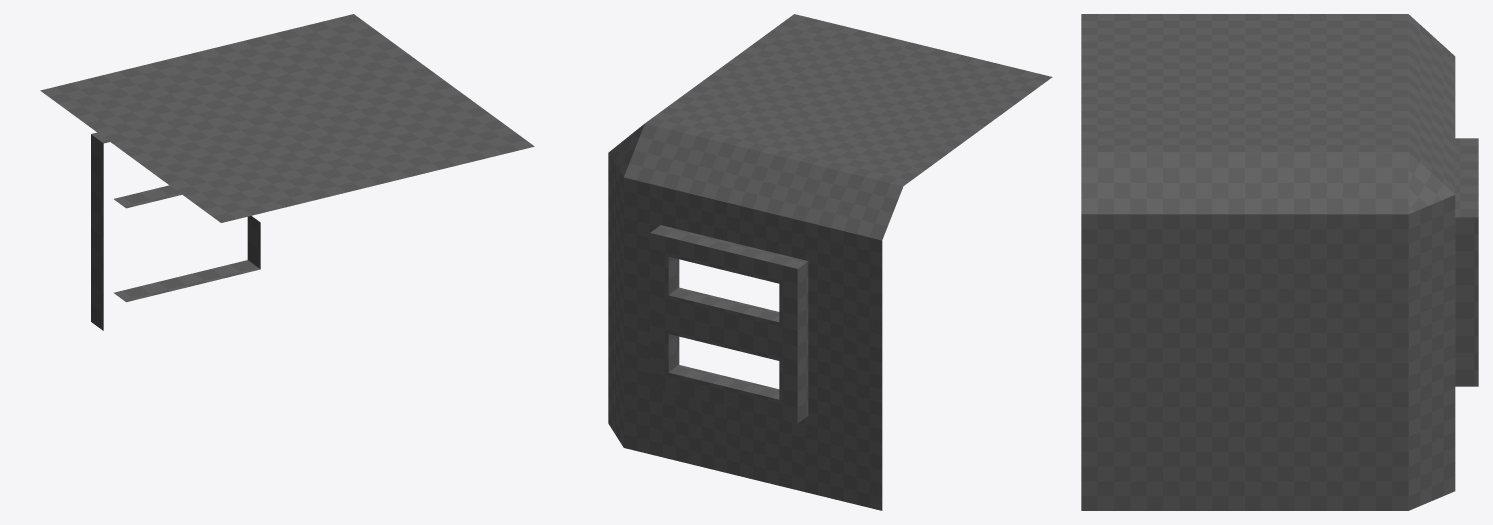
3 renders of one model, left to right at view 1: azimuth 30°, elevation 25°; view 2: azimuth 150°, elevation 25°; view 3: azimuth 270°, elevation 25°, orthographic. The views are drawn at different scales.
Visible parts, largest first — view 1: CubeUpBackRightV1; view 2: CubeUpBackRightV1; view 3: CubeUpBackRightV1.
Part boxes in pixels (x1,y1,x2,y2): CubeUpBackRightV1: (40,14,534,330); CubeUpBackRightV1: (608,14,1052,510); CubeUpBackRightV1: (1081,14,1478,510).
Bounding box in the file's own units: 2 × 2 × 2.12.
Materials: 1 (1 with a texture image).
